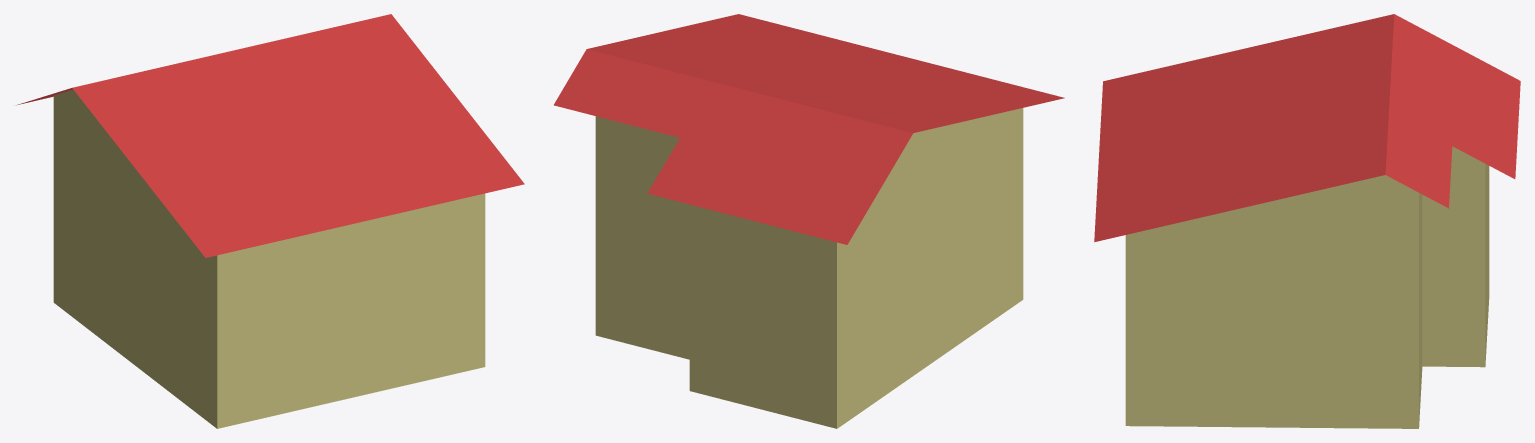
3 views of the same model, side by side, from view 1: azimuth 30°, elevation 25°; view 2: azimuth 150°, elevation 25°; view 3: azimuth 270°, elevation 25° (orthographic). The views are drawn at different scales.
Bounding box in the file's own units: 19.06 × 20.9 × 14.41.
